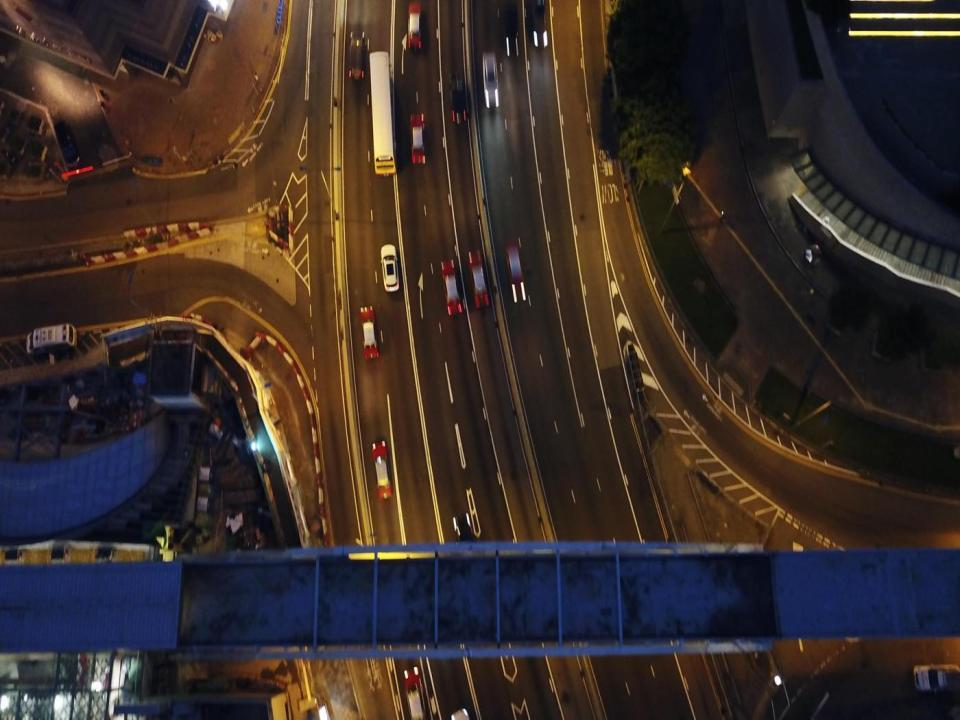bus: (370, 50, 396, 176)
car: (451, 514, 478, 570), (912, 664, 960, 694), (505, 240, 527, 302), (403, 666, 426, 719), (372, 440, 392, 500), (468, 251, 489, 307), (441, 261, 462, 316), (502, 4, 522, 56), (483, 50, 500, 110), (360, 306, 379, 359), (448, 72, 467, 125), (380, 244, 399, 291), (409, 113, 426, 163), (531, 1, 548, 47), (349, 31, 364, 80), (407, 3, 422, 49)
van: (25, 323, 77, 352)
